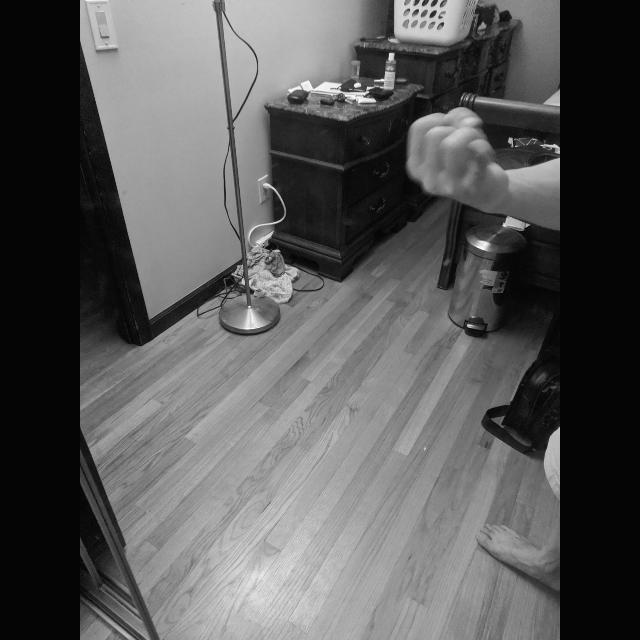J: (400, 102, 510, 212)
